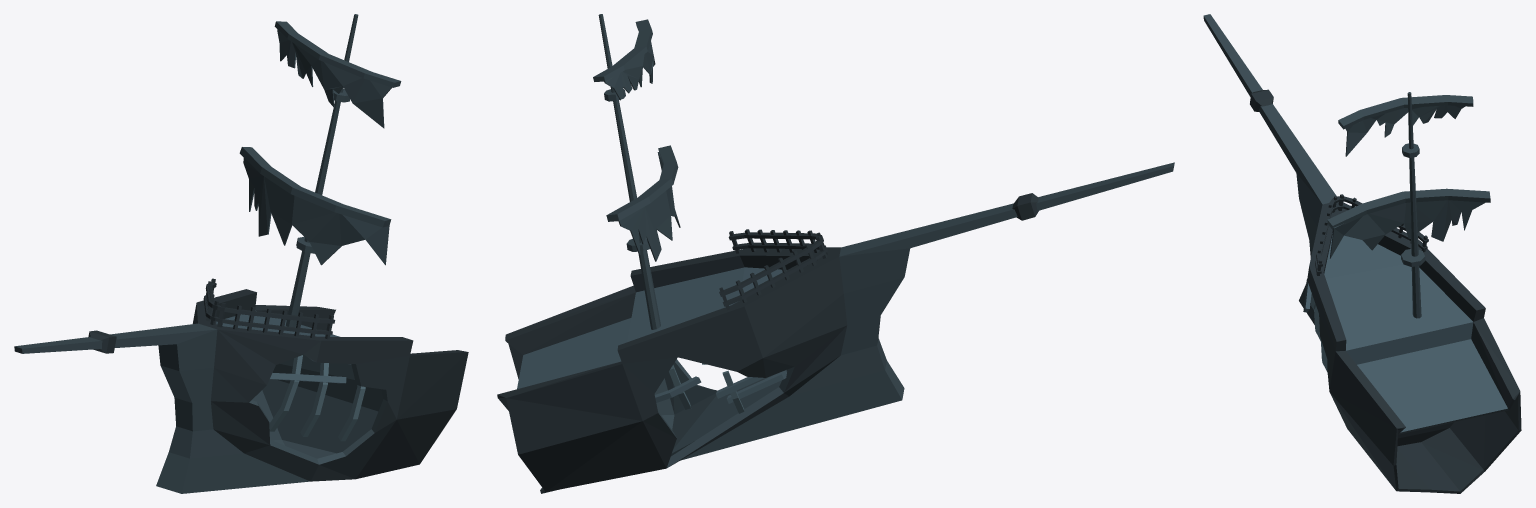
File: Ship_056.glb
The picture shows the model from 3 angles, left to right: view 1: azimuth 30°, elevation 25°; view 2: azimuth 150°, elevation 25°; view 3: azimuth 270°, elevation 25°; orthographic projection. The views are drawn at different scales.
Visible parts, largest first — view 1: Ship_056; view 2: Ship_056; view 3: Ship_056.
Boxes of the visible parts, <box> form: Ship_056: <box>14,14,468,493</box>; Ship_056: <box>497,14,1174,493</box>; Ship_056: <box>1203,14,1521,493</box>.
Size of the model in its own units: 12.88 by 10.26 by 7.6.
Materials: 1 (1 with a texture image).
